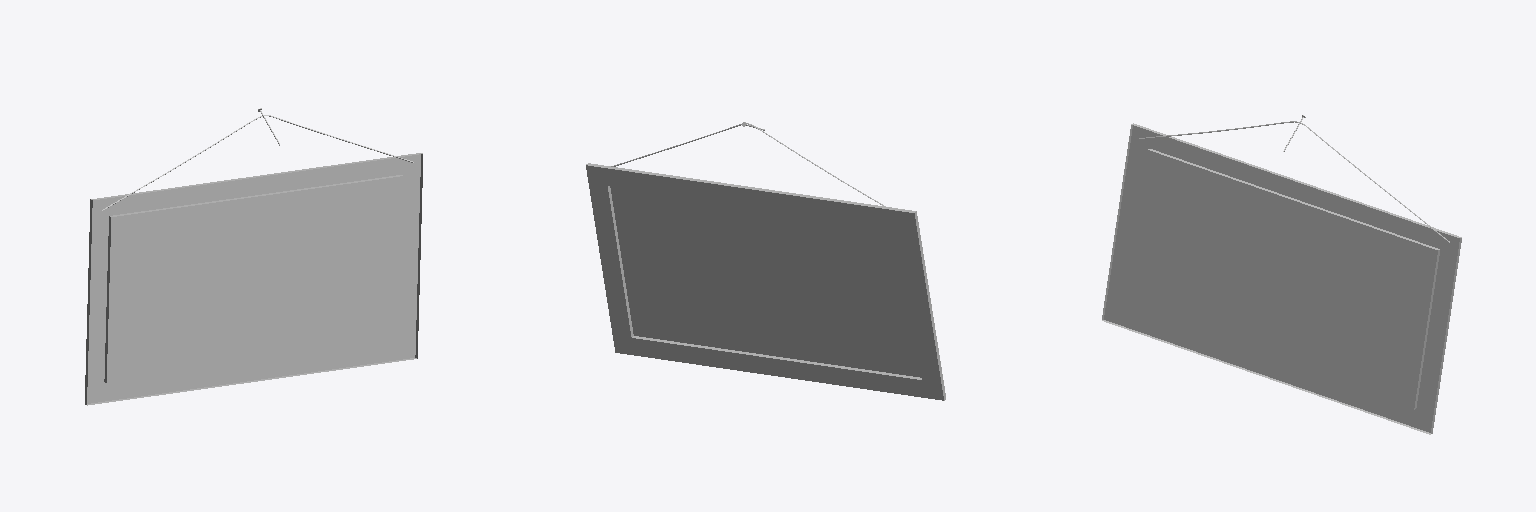
Rendered from obraz nad lozkiem.obj.
3 renders of one model, left to right at view 1: azimuth 30°, elevation 25°; view 2: azimuth 150°, elevation 25°; view 3: azimuth 330°, elevation 25°, orthographic.
Visible parts, largest first — view 1: Plane.001_Plane; view 2: Plane.001_Plane; view 3: Plane.001_Plane.
Part boxes in pixels (left/top/right/bottom): Plane.001_Plane: left=85, top=153, right=422, bottom=405; Plane.001_Plane: left=586, top=163, right=945, bottom=400; Plane.001_Plane: left=1102, top=123, right=1461, bottom=434.
Size of the model in its own units: 0.8362 by 0.6315 by 0.0877.